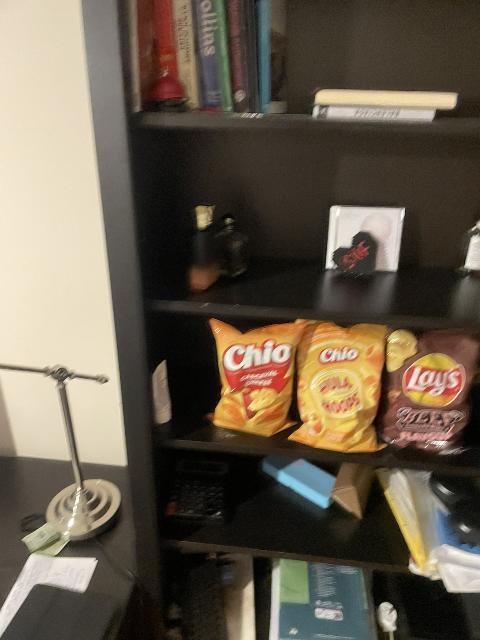Chio Cascaval 125g: (207, 319, 311, 437)
Chio Hula Hoops Cheese 70g: (290, 323, 390, 453)
Lays Beef Grilled Ribs 125g: (378, 329, 480, 455)
